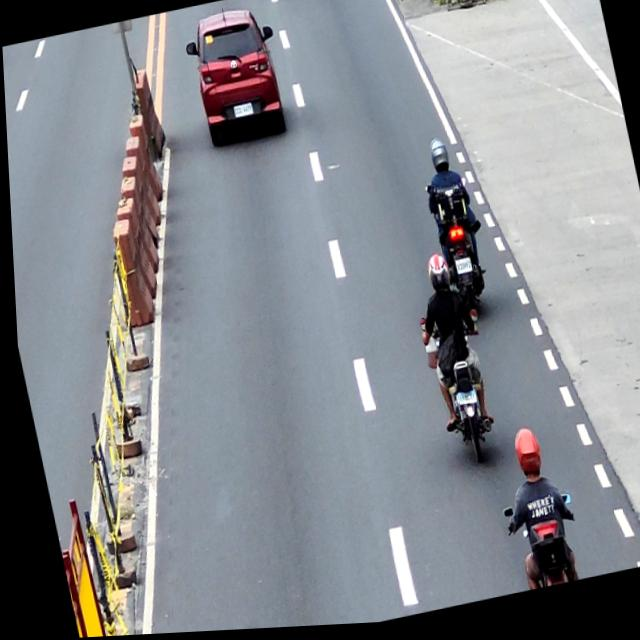Car: (180, 5, 294, 154)
License-Plate: (452, 393, 474, 412), (231, 105, 253, 121), (451, 261, 470, 279)
Motorcycle: (413, 308, 502, 477), (421, 180, 490, 321)
